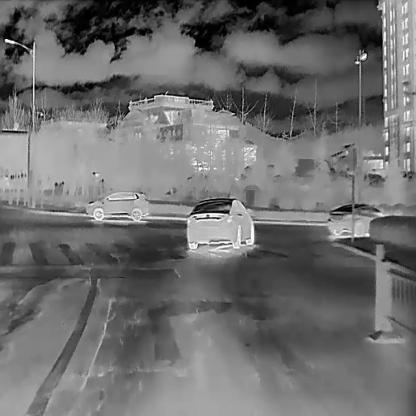car: (185, 197, 254, 250), (85, 189, 150, 221), (327, 202, 384, 237)
